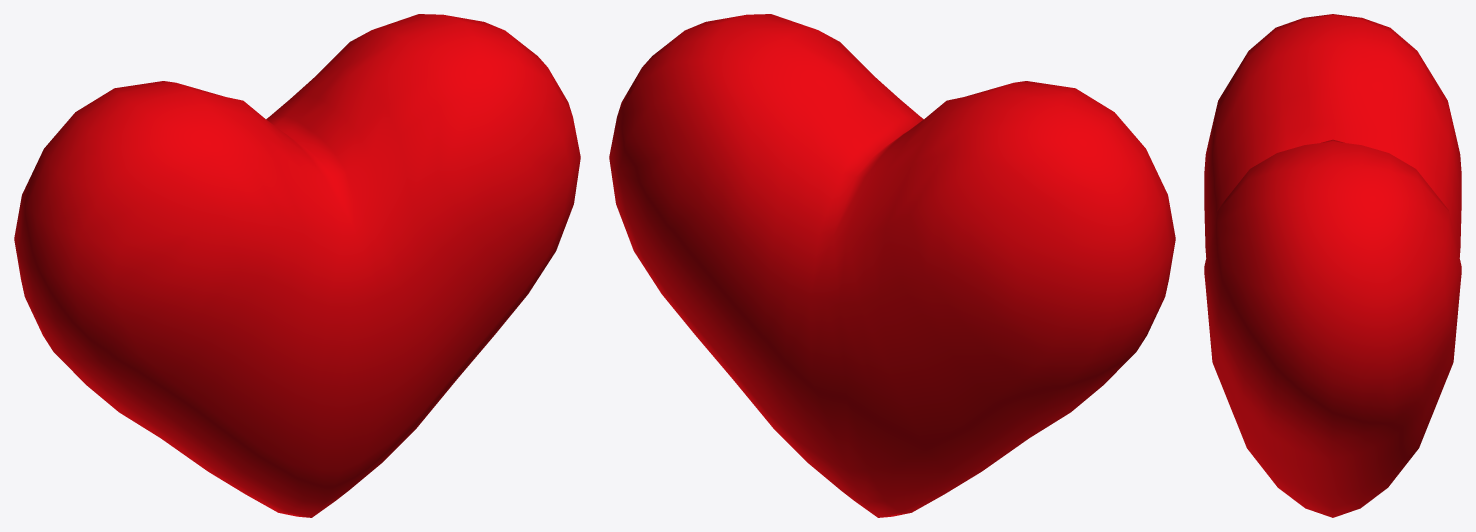
File: heart-red.glb
3 views of the same model, side by side, from view 1: azimuth 30°, elevation 25°; view 2: azimuth 150°, elevation 25°; view 3: azimuth 270°, elevation 25° (orthographic). The views are drawn at different scales.
Parts seen in each view (by area): view 1: Simple heart; view 2: Simple heart; view 3: Simple heart.
Boxes of the visible parts, box(x1,y1,x2,y2) form: Simple heart: box(14, 14, 580, 517); Simple heart: box(609, 14, 1175, 517); Simple heart: box(1204, 14, 1461, 517).
Bounding box in the file's own units: 0.4507 × 0.3666 × 0.201.
